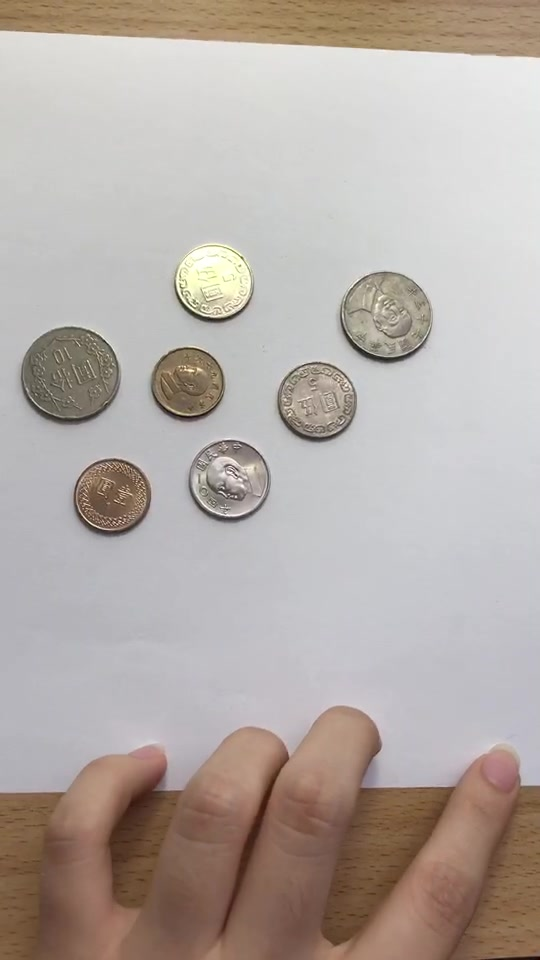1 dallar: (144, 339, 235, 426), (63, 456, 154, 543)
10 dallar: (12, 320, 129, 439), (331, 266, 441, 361)
5 dallar: (171, 237, 257, 329), (273, 355, 359, 447), (185, 439, 271, 531)
